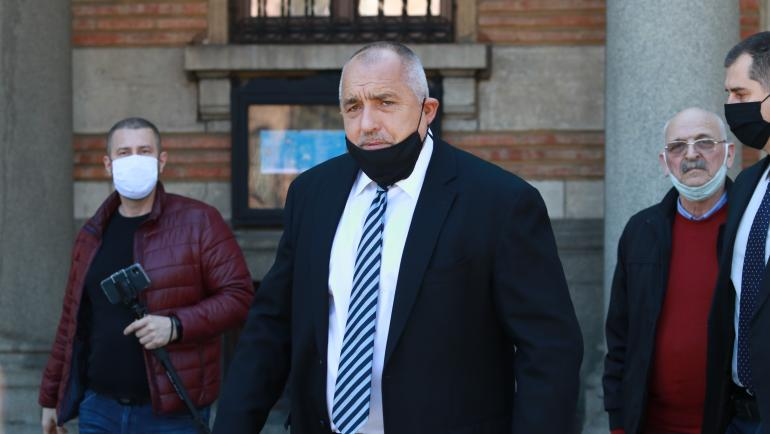WrongMask: (342, 113, 436, 189)
